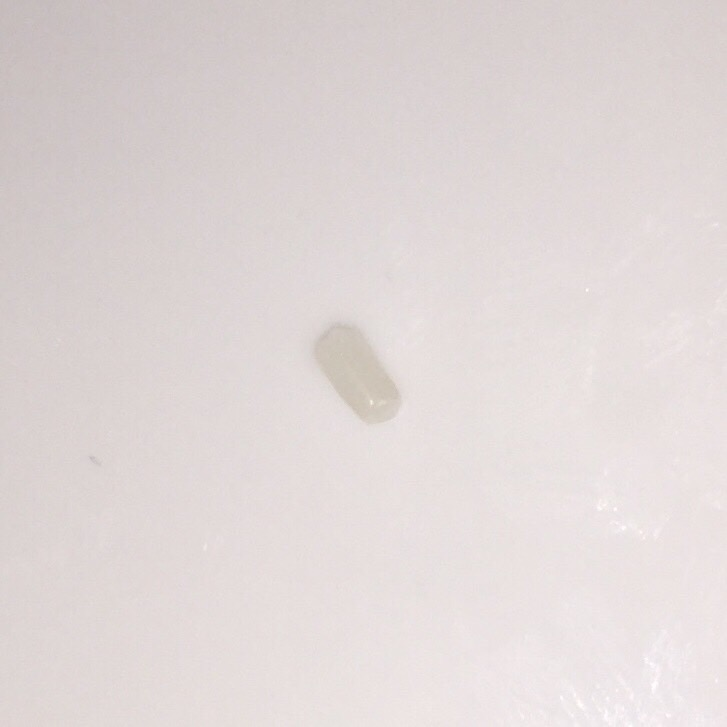Gao Tam: (313, 318, 403, 425)
